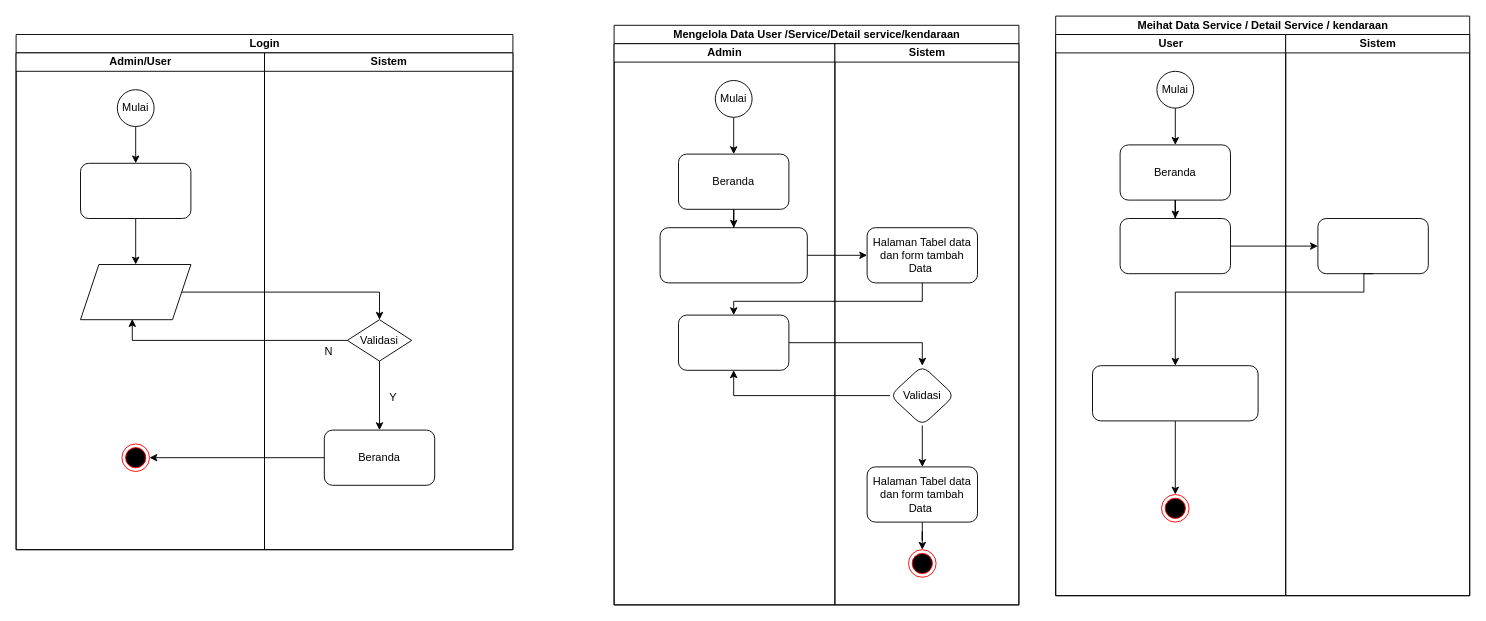
Some shapes in this 1486 by 621 pixel diagram are drawn without their labels. The centre of each missing label's shape, as x and y in pixels:
Data User /Service /Detail service: [1174,246]
Data User /Service /Detail service/kendaraan: [733,255]
Formulir login: [135,190]
Halaman Tabel data: [1372,246]
Input ,view ,edit ,delete data: [733,342]
Masukkan Nama Pengguna dan kata sandi: [135,292]
view Halaman Tabel data Service / Detail Service / kendaraan: [1175,393]
